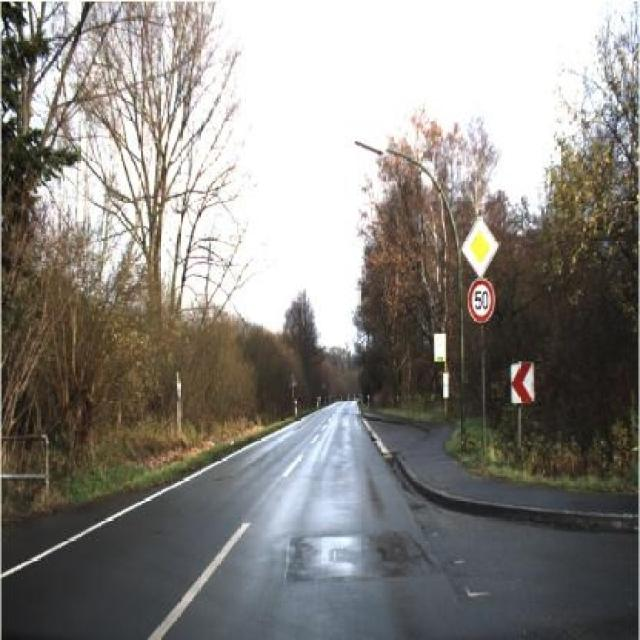forb_speed_over_50: (466, 275, 497, 327)
